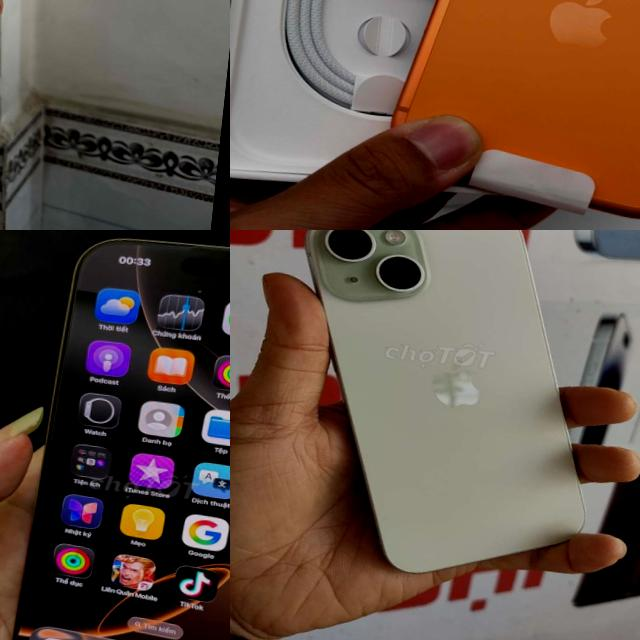gen_15: (265, 230, 640, 592)
gen_16: (0, 230, 230, 640)
gen_17: (397, 0, 640, 230)
